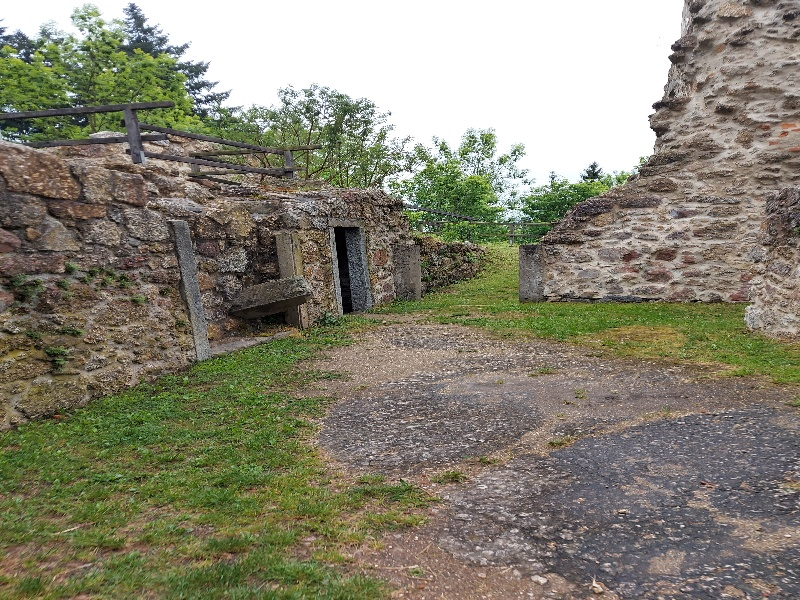door2: (320, 212, 382, 321)
